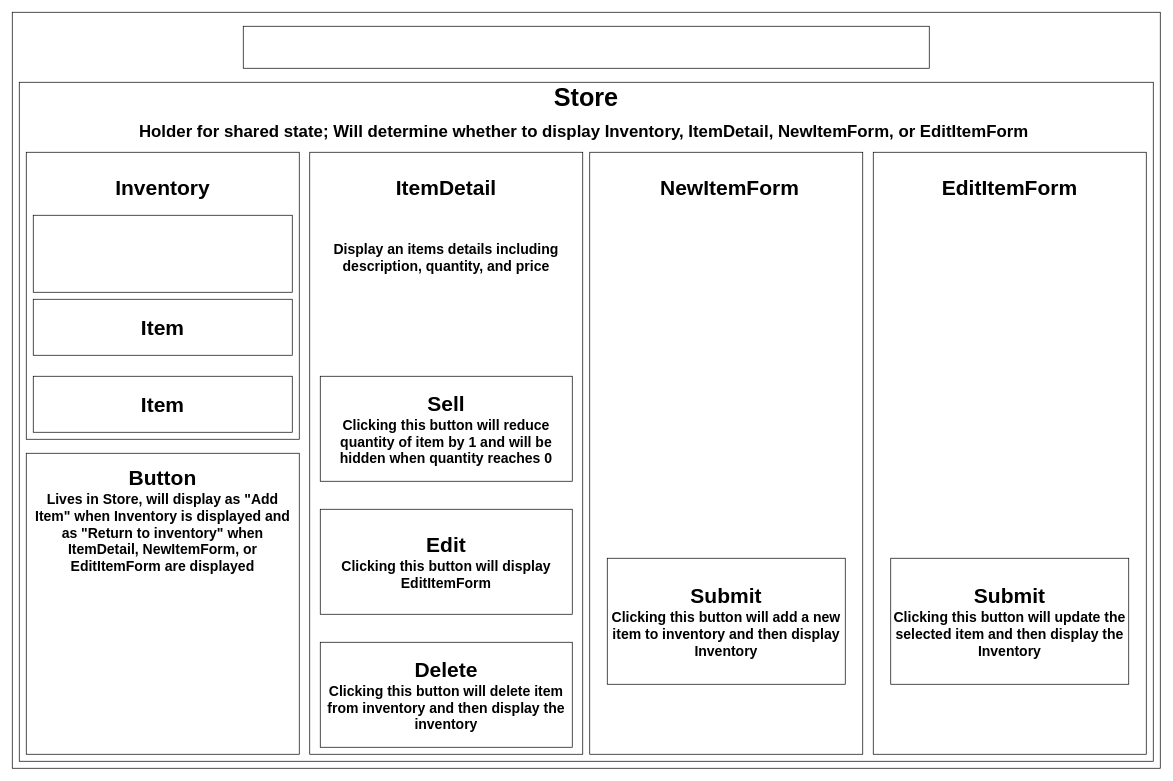
This 1173x781 diagram has some shape labels left out. The shapes that lost their labels are listed below. From the top down, each one's centre as x and y in pixels, then its label:
At [586,47]: "Header".
At [162,253]: "Item Will show price and clicking on an item will show item details".
